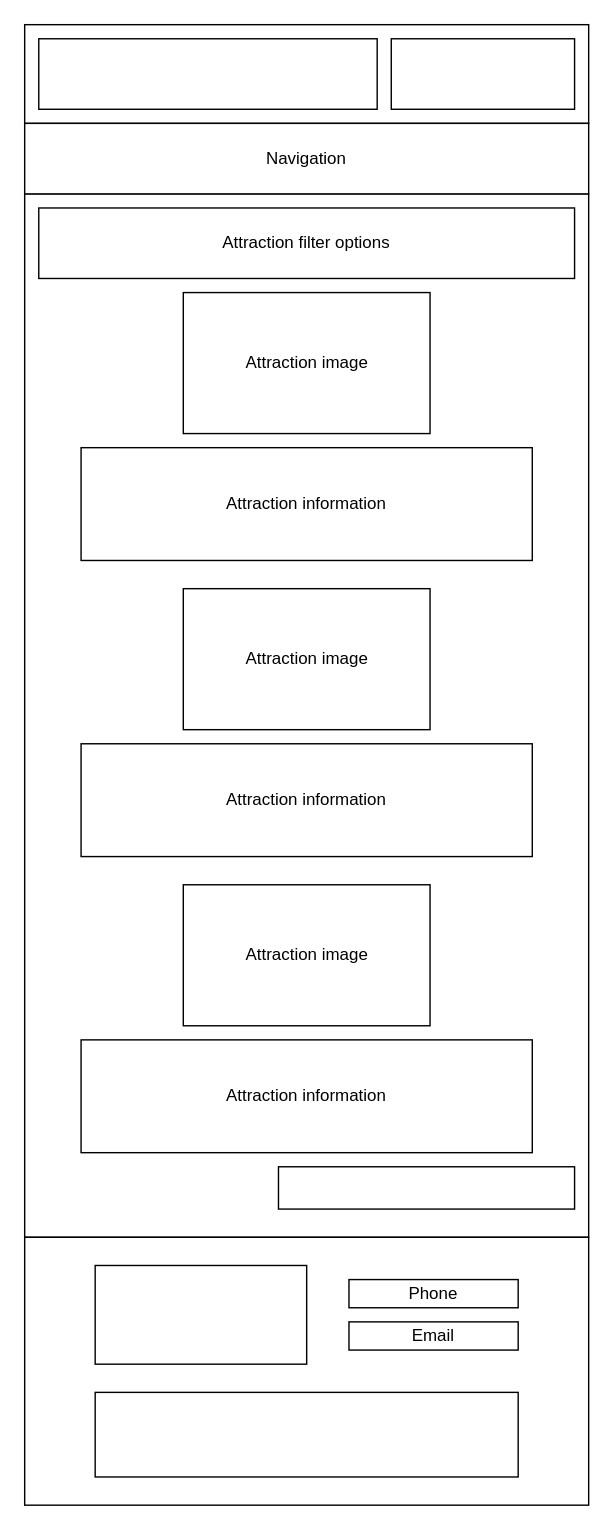
Image size: 613x1530. Some labels were removed from this diagram. Here are the shapes that lost their labels. From the top down, the centre of each, then its label:
At [207,73]: "Logo".
At [482,73]: "Buy tickets button".
At [426,1187]: "Page of results navigation".
At [200,1314]: "Address".
At [306,1434]: "Social media buttons".
